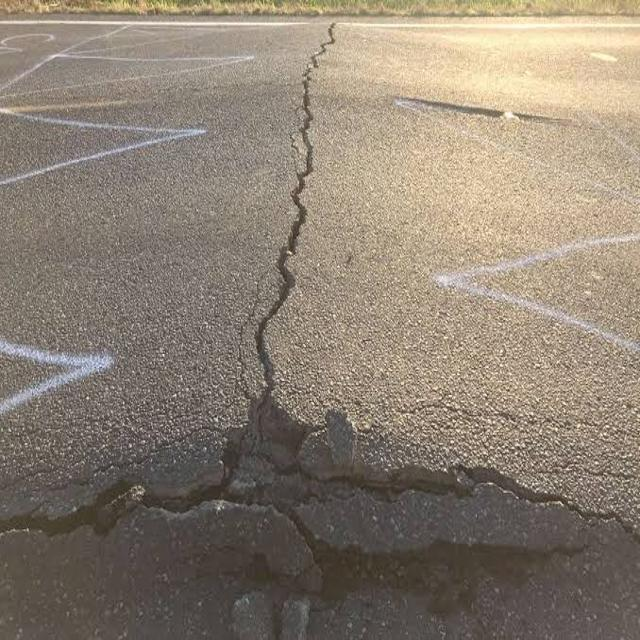Melintang: (0, 426, 640, 573)
Memanjang: (216, 17, 356, 433)
